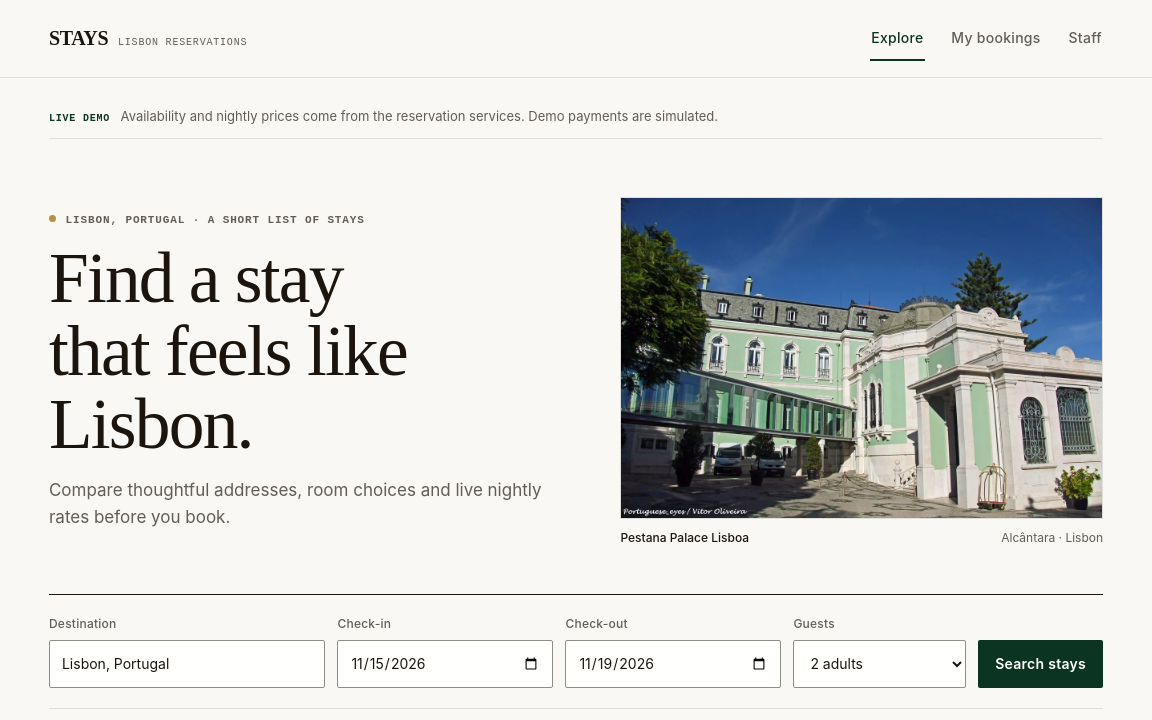
Test: hotel reservation experience › requires email to look up history
Click the button "My bookings": (996, 38) [950,16,1042,60]
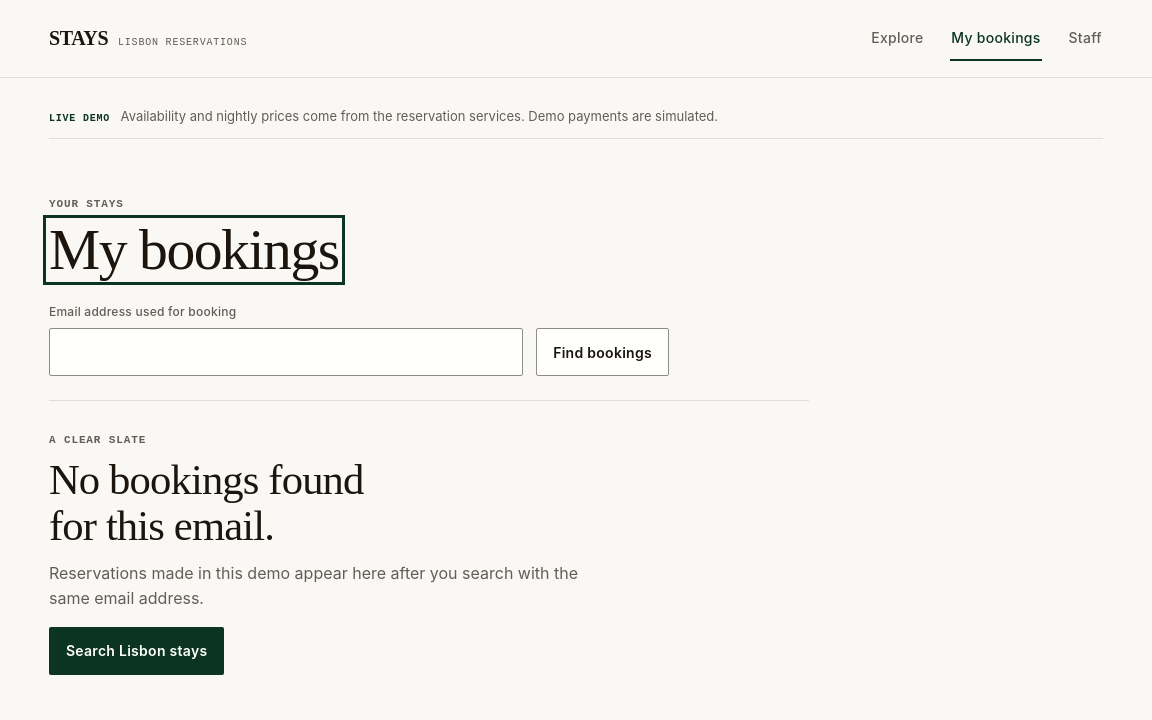
Submit the form "Find bookings", box [49,303,669,376]
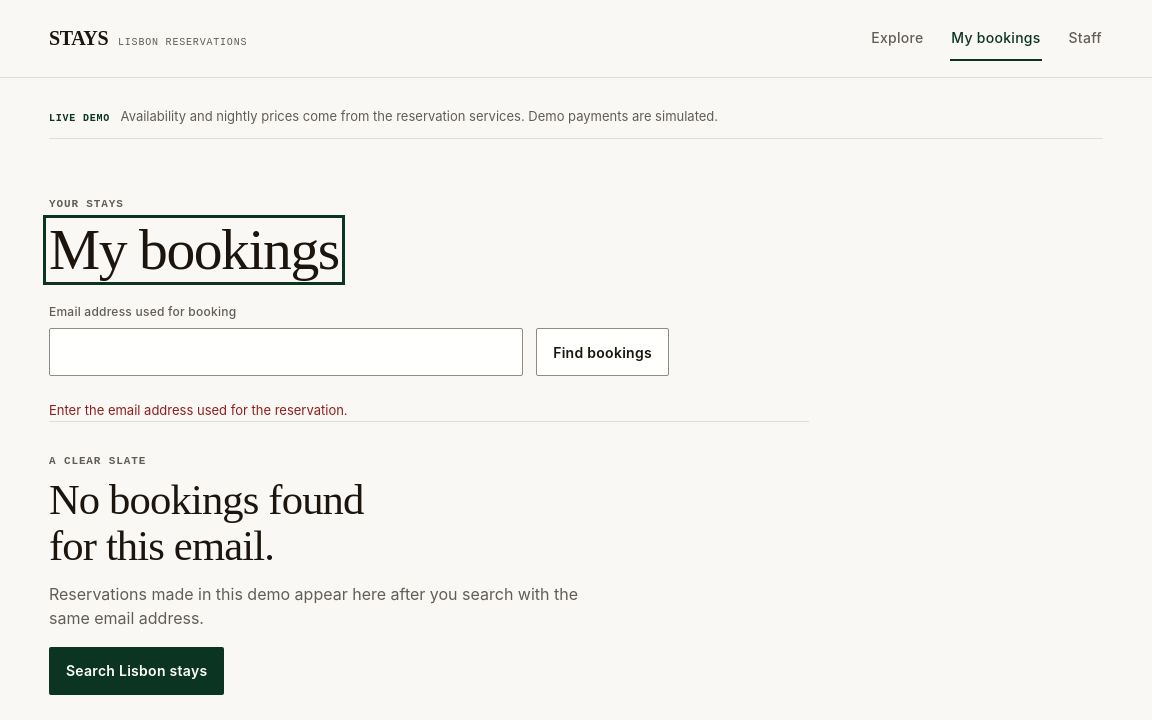
expect the message shows "Enter the email address used": met, box [49,402,348,418]
